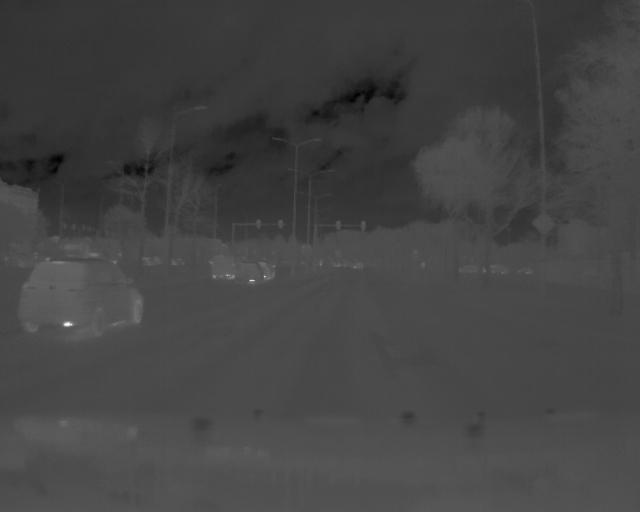car: (16, 254, 147, 342), (233, 261, 265, 289), (207, 254, 240, 281)
